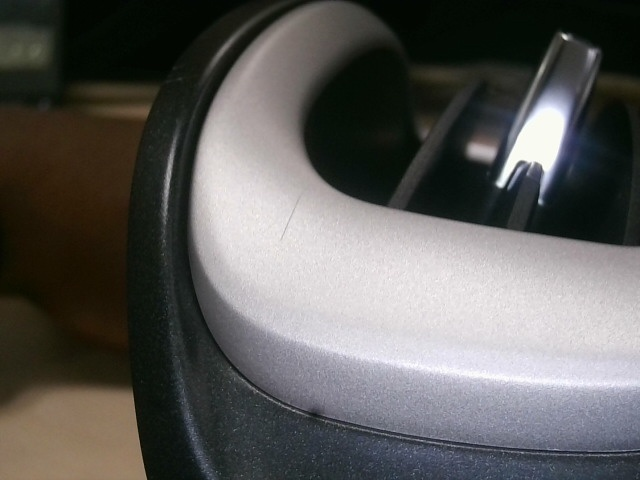NG: (276, 181, 309, 247), (164, 65, 190, 103)
